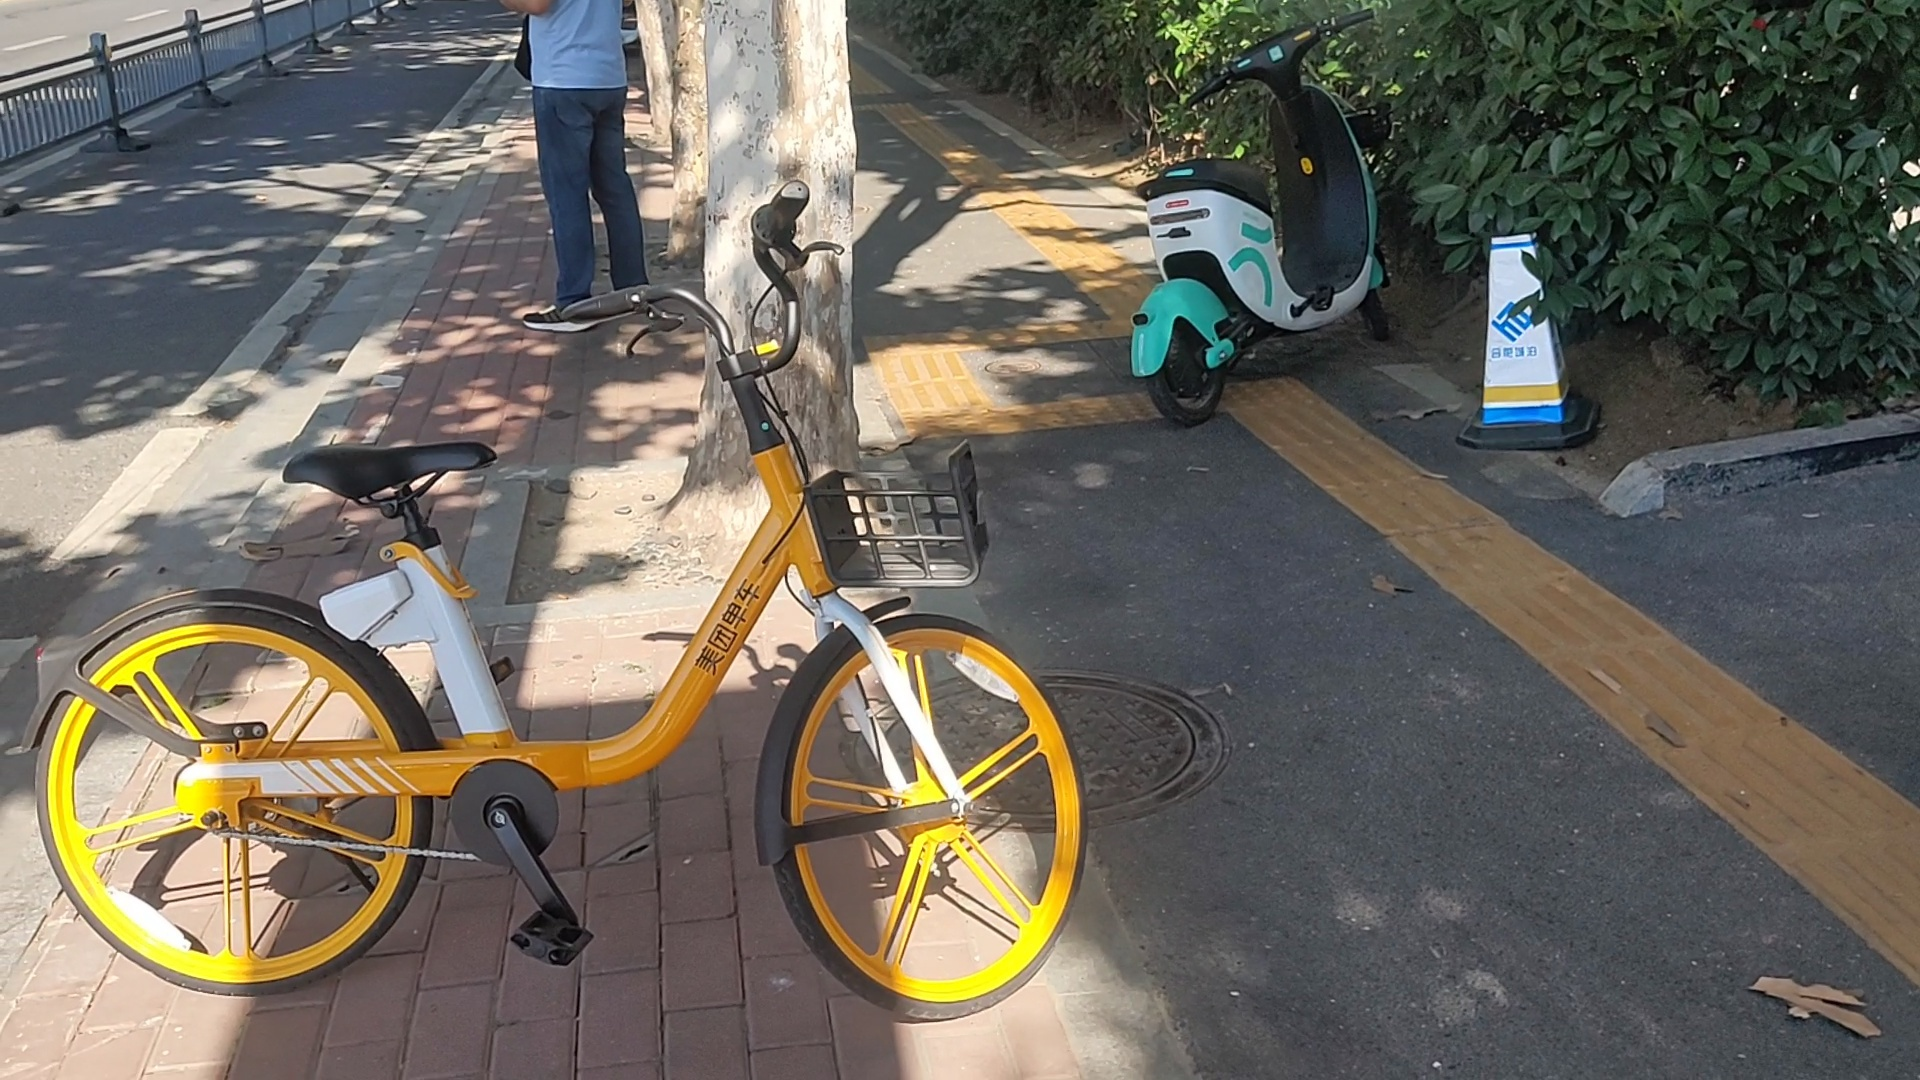non-vehicle: (15, 244, 1083, 1029), (1121, 4, 1396, 423)
